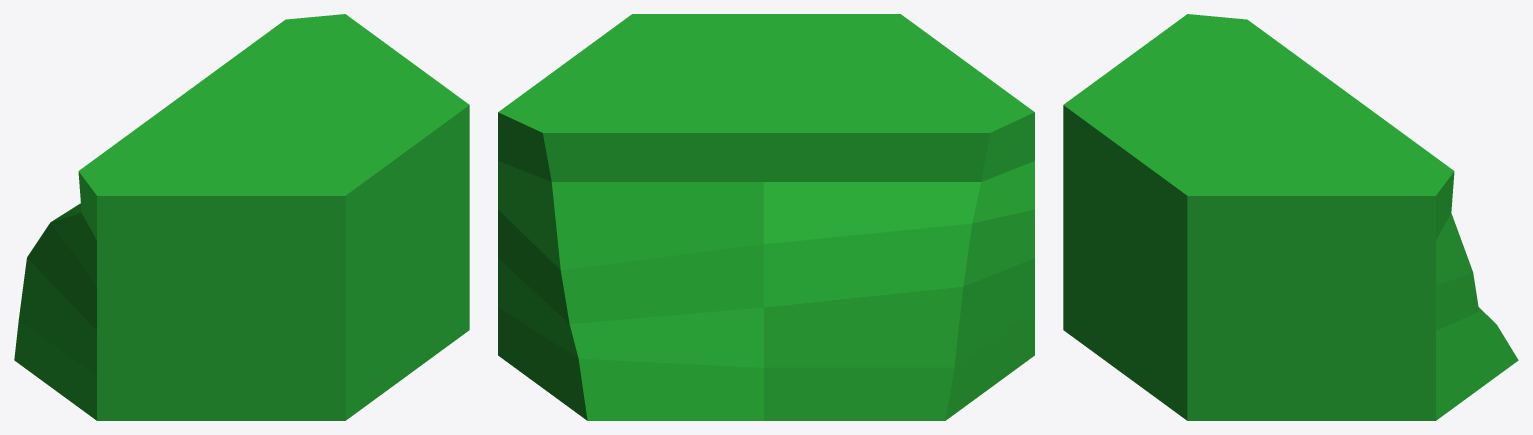
The model's file is cliff-big_corner.glb.
3 renders of one model, left to right at view 1: azimuth 30°, elevation 25°; view 2: azimuth 150°, elevation 25°; view 3: azimuth 270°, elevation 25°, orthographic. The views are drawn at different scales.
Visible parts, largest first — view 1: cliff-big_corner; view 2: cliff-big_corner; view 3: cliff-big_corner.
Part boxes in pixels (x1,y1,x2,y2): cliff-big_corner: [14, 14, 469, 420]; cliff-big_corner: [498, 14, 1034, 420]; cliff-big_corner: [1063, 14, 1518, 420].
Size of the model in its own units: 0.8705 by 0.5 by 0.9167.
